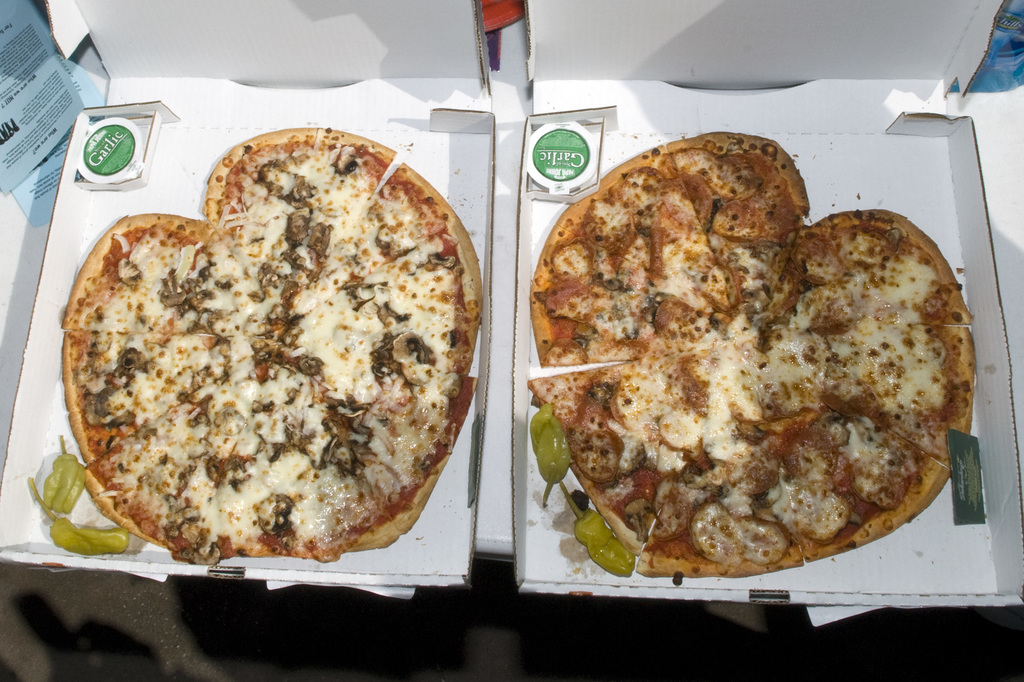Pizza: (528, 123, 981, 577), (63, 133, 476, 610)
